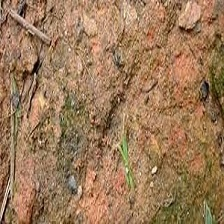clay_soil: (14, 19, 208, 192)
